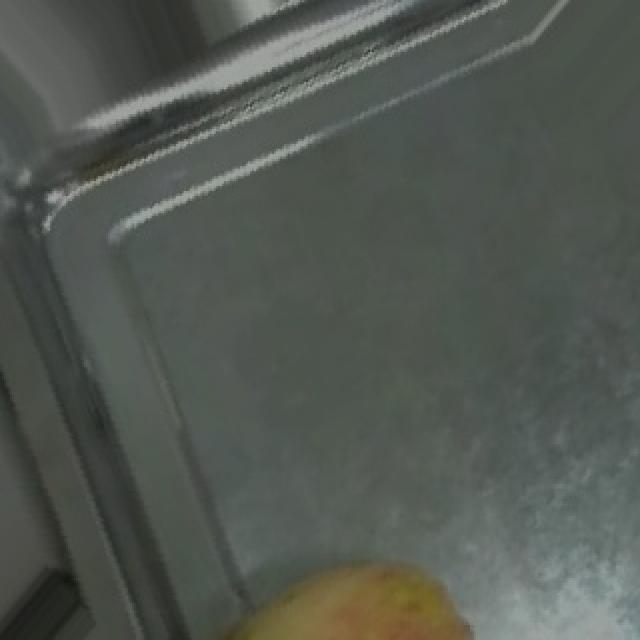Fruit: (202, 521, 510, 640)
